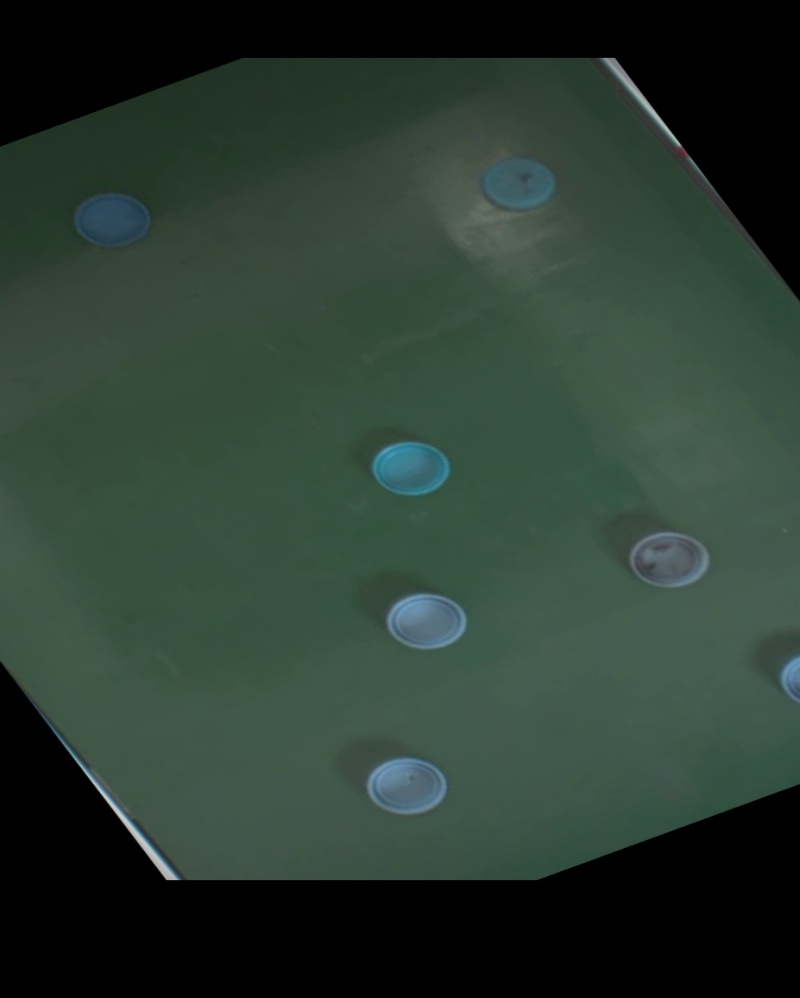Light Blue: (615, 520, 725, 597), (372, 582, 481, 658), (353, 749, 461, 825), (59, 183, 166, 257), (359, 431, 465, 505), (467, 148, 567, 217), (766, 641, 800, 719)
